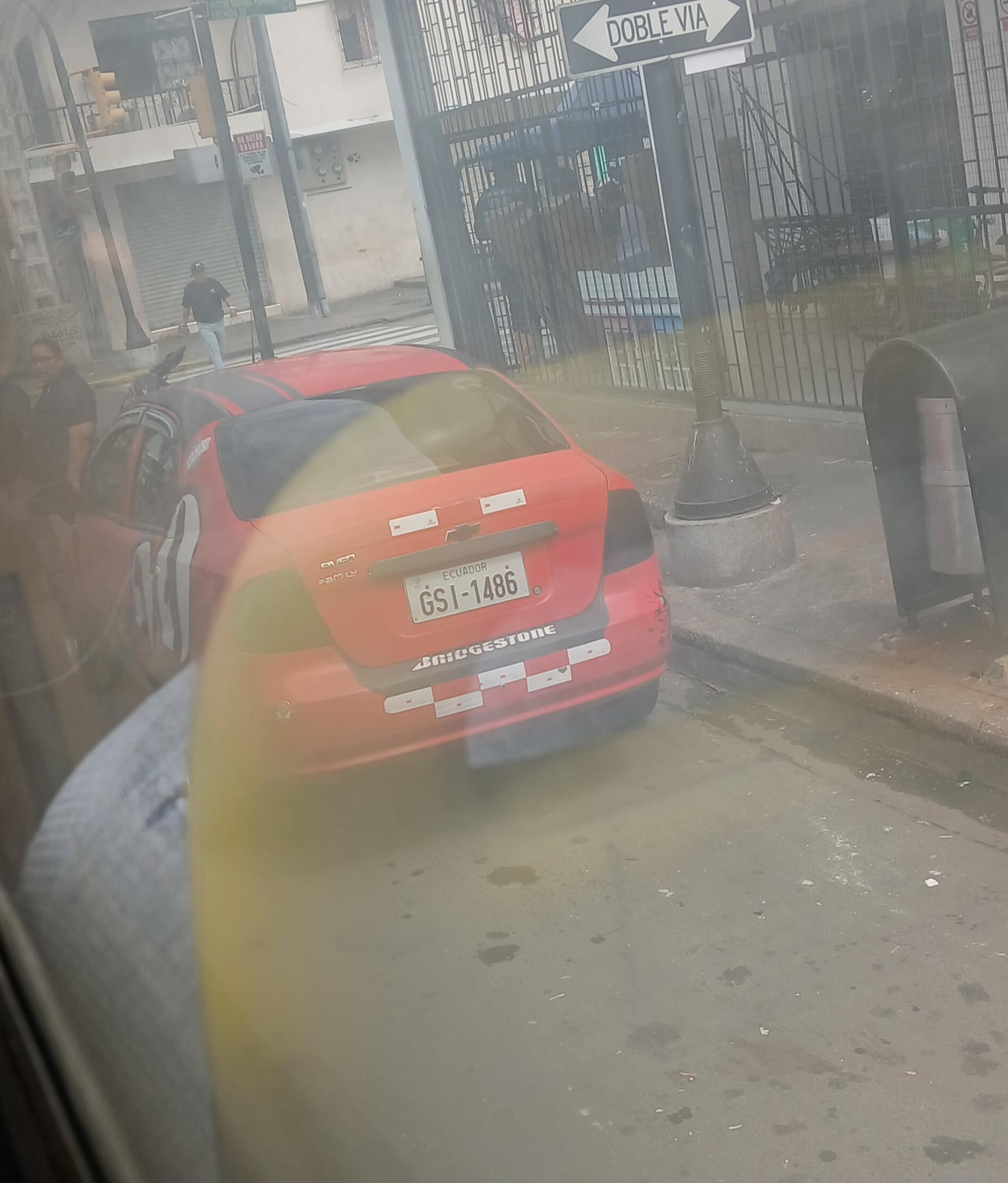license_plate: (404, 551, 533, 622)
